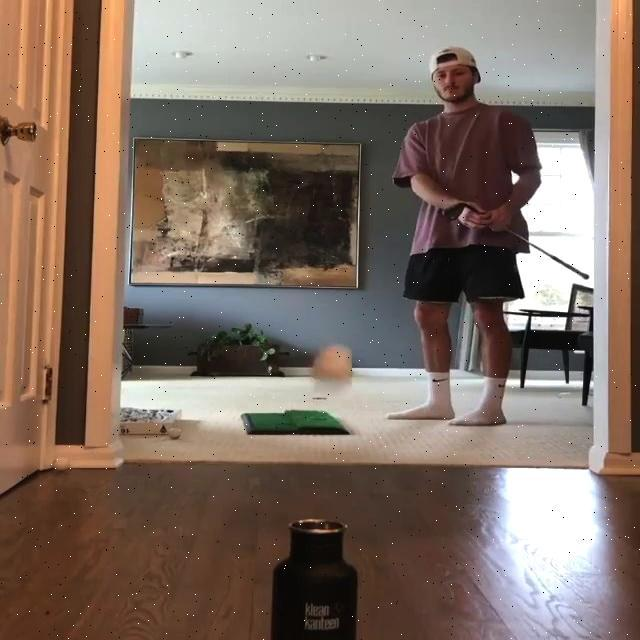golf ball: (315, 347, 357, 379), (167, 427, 181, 439)
golf club-handle: (443, 203, 590, 279)
golf club-head: (443, 203, 467, 219)
